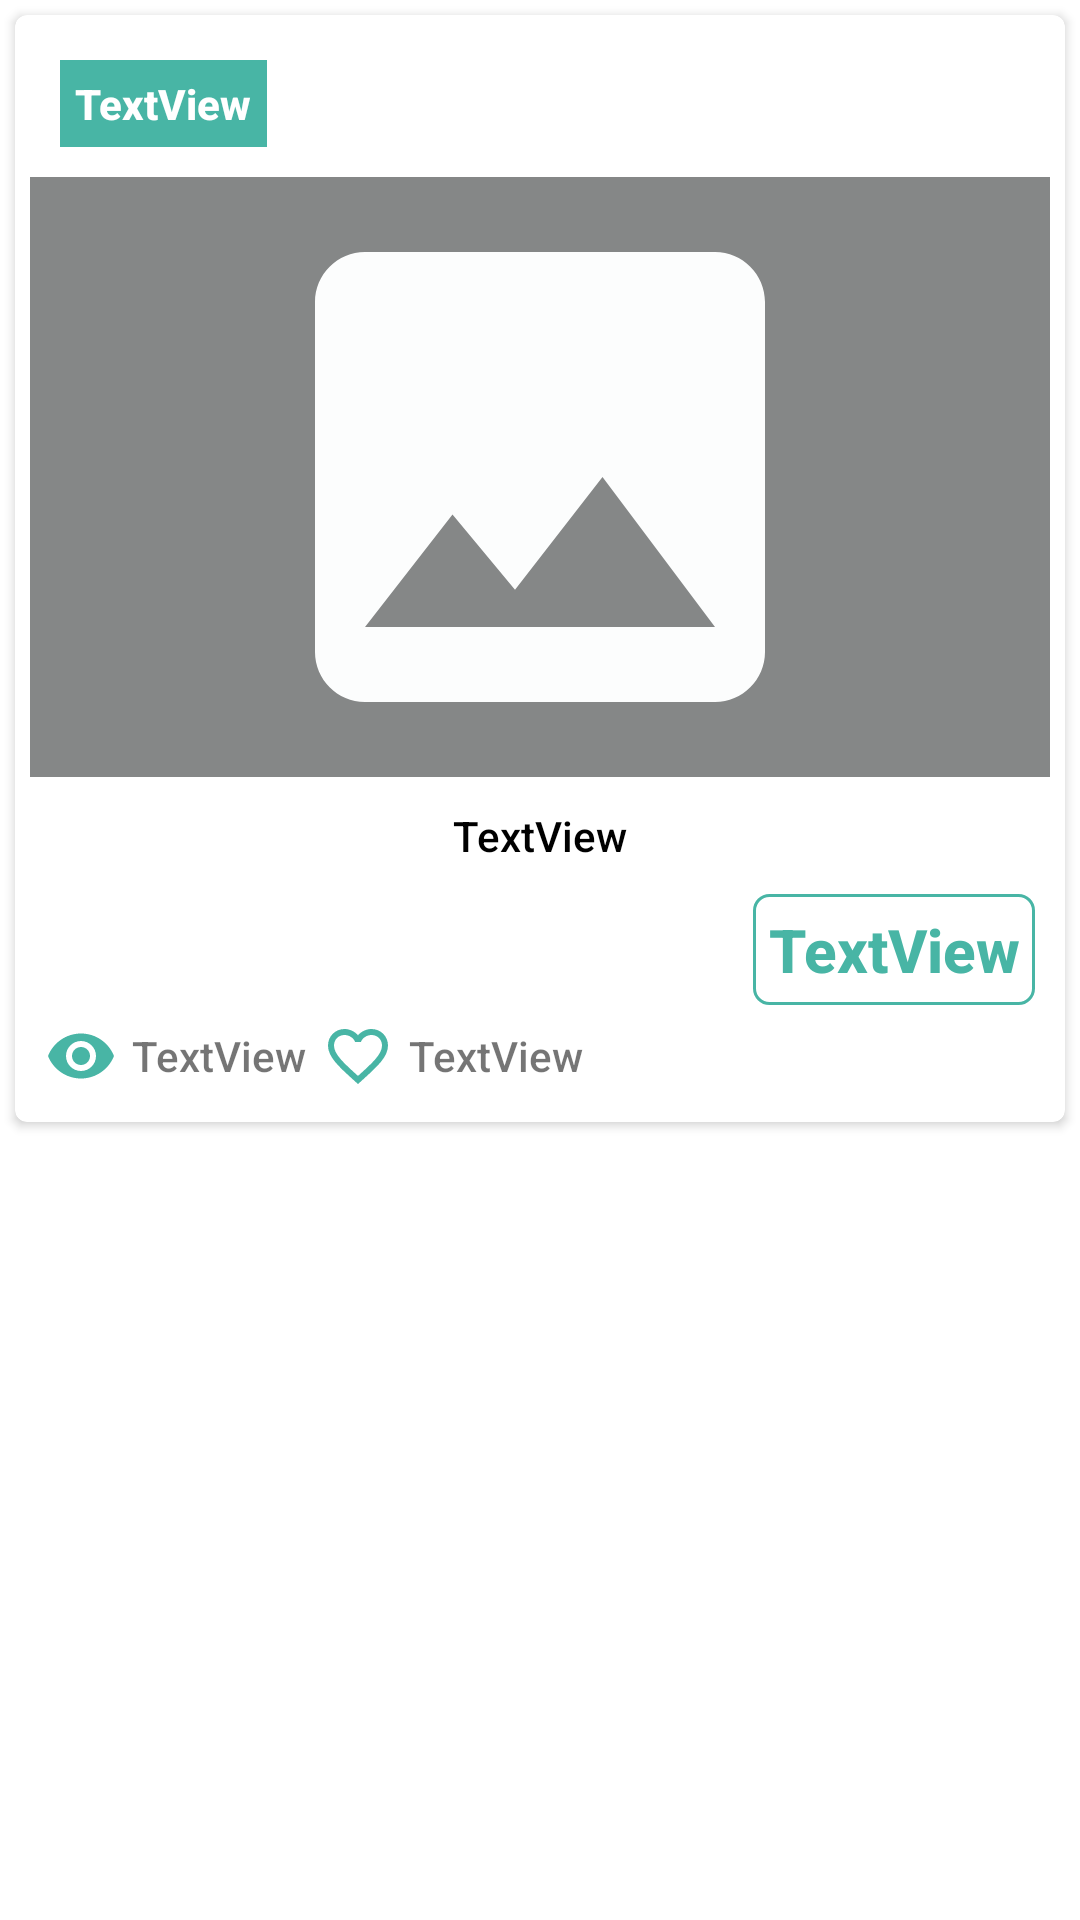

Screen size 1080×1920. Icon name, then its center in pixels as (x=x, y=y):
eye: (x=81, y=1056)
favorit no: (x=358, y=1056)
